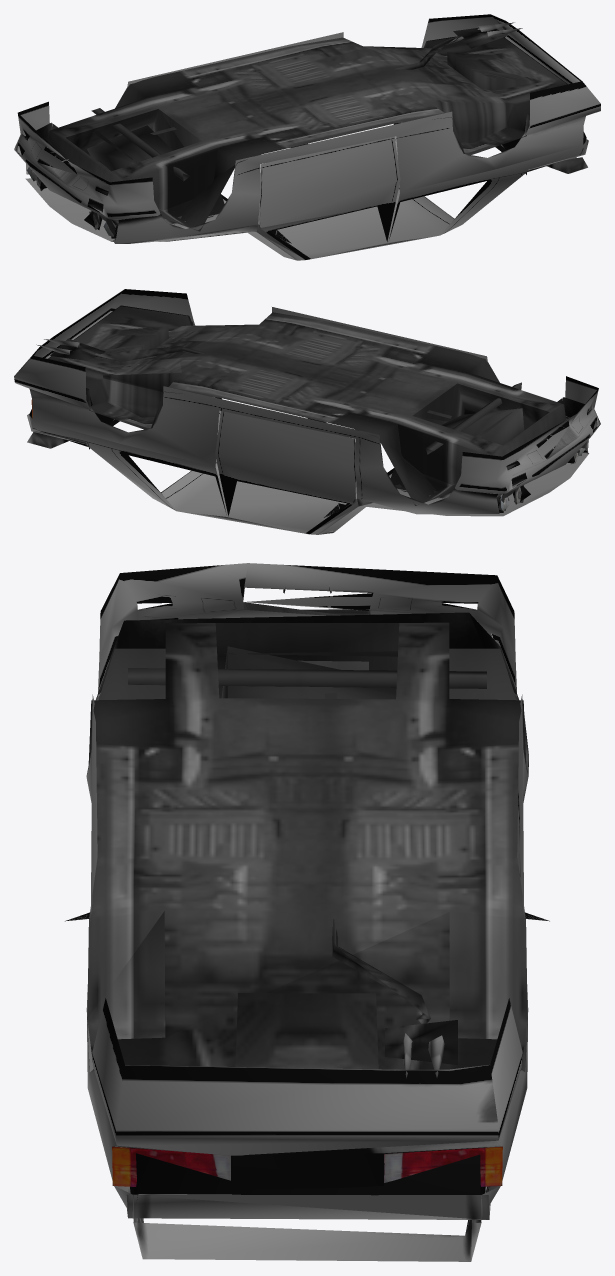
File: M3_body_d1.obj
The picture shows the model from 3 angles, top to bottom: view 1: azimuth 30°, elevation 25°; view 2: azimuth 150°, elevation 25°; view 3: azimuth 270°, elevation 25°; orthographic projection. The views are drawn at different scales.
Visible parts, largest first — view 1: M3_body; view 2: M3_body; view 3: M3_body.
Boxes of the visible parts, x1,y1,x2,y2 form: M3_body: [14, 14, 600, 260]; M3_body: [14, 289, 600, 534]; M3_body: [65, 563, 549, 1261].
Size of the model in its own units: 4.35 by 1.35 by 1.82.
Materials: 1 (1 with a texture image).
